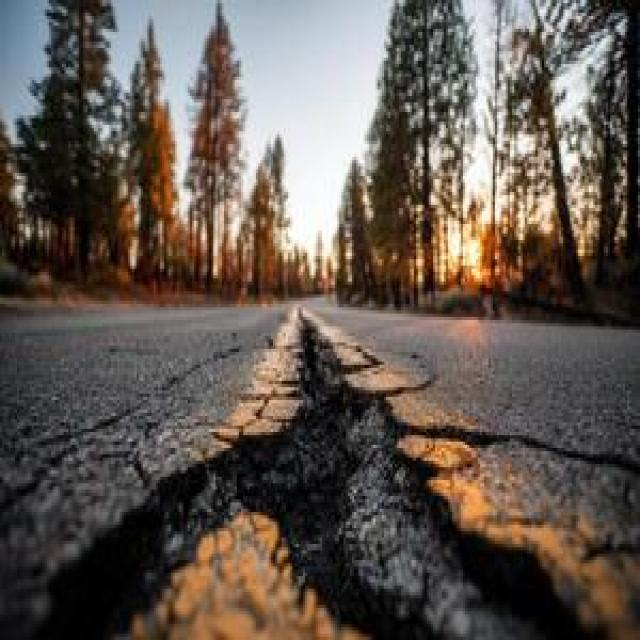road collapse: (10, 2, 640, 640)
